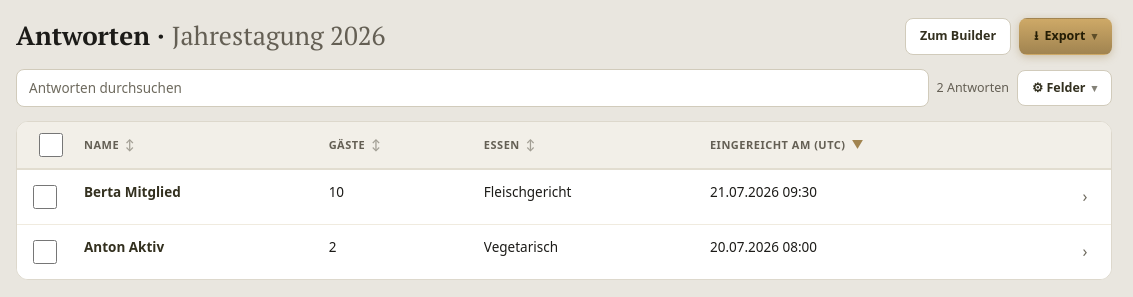
Test: ResponsesView › searches the rendered value, not the stored one
Expected: the heading "Antworten · Jahrestagung 2026" is shown, [16,21,386,51]
Step 1. Type "Vegetarisch" into the search field labelled "Antworten durchsuchen" → (472, 88), box [16,69,928,107]
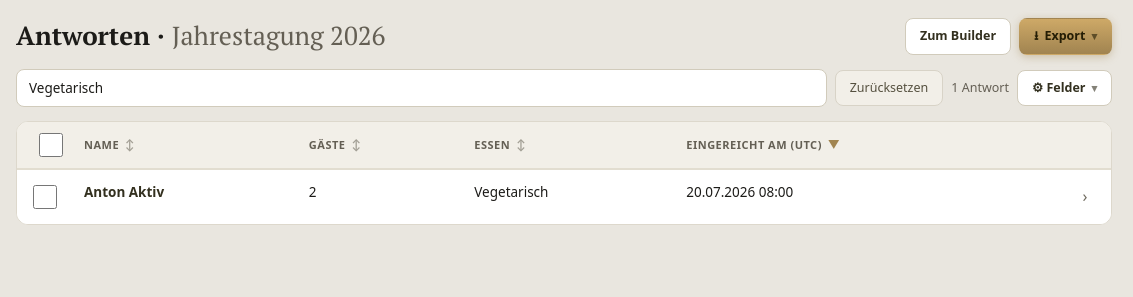
Expected: the text "Anton Aktiv" is shown, [84,183,164,201]
Now the text "1 Antwort" is shown, box [951,78,1009,97]
Now the text "Berta Mitglied" is gone
